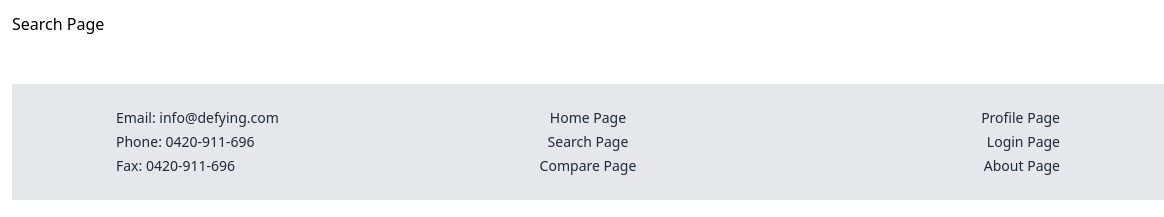
Scenario: Footer Component - Integration Tests › navigates to Home Page when 'Home Page' link is clicked
Step 1. Click the link "Home Page" → x=588, y=118, box [550,108,626,128]
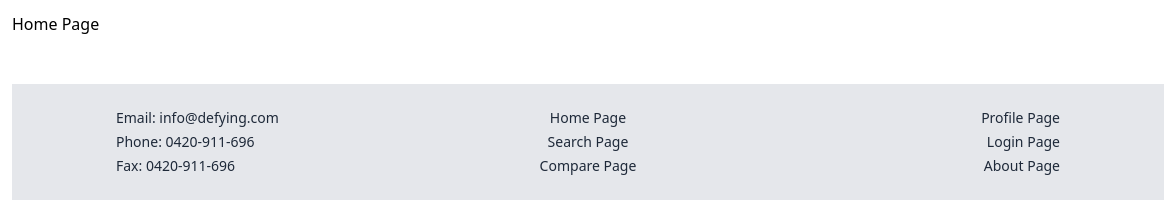
Check: the heading "Home Page" is shown, box [12,13,99,35]
